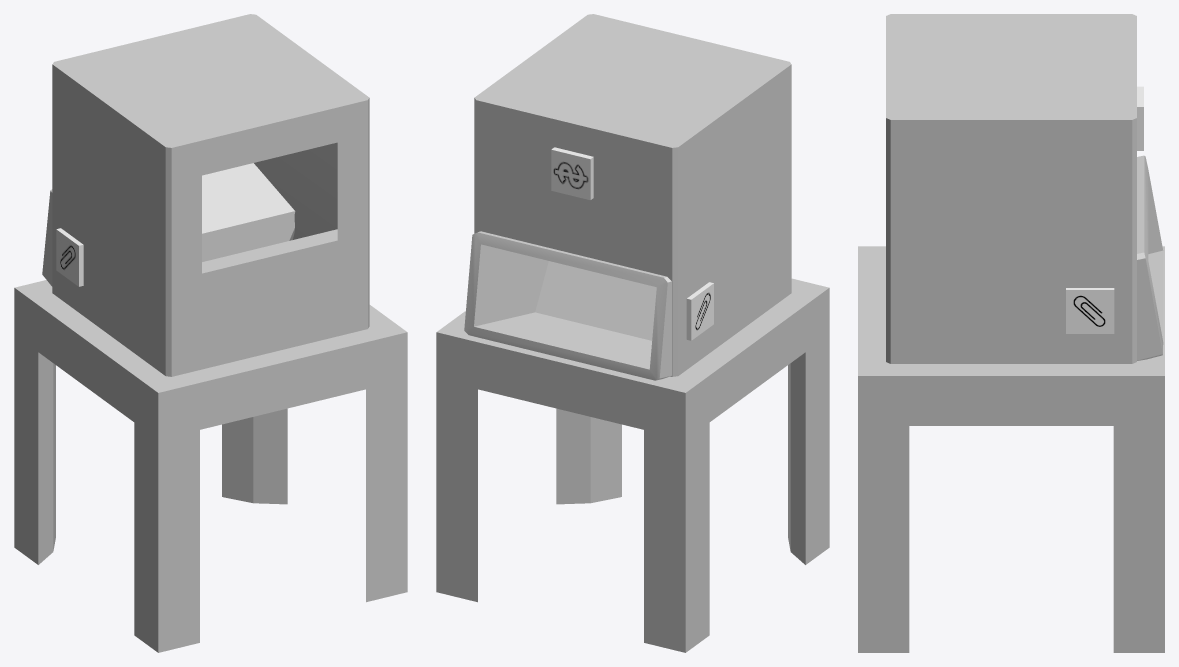
The model's file is ClipSeller.fbx.
3 views of the same model, side by side, from view 1: azimuth 30°, elevation 25°; view 2: azimuth 150°, elevation 25°; view 3: azimuth 270°, elevation 25° (orthographic). The views are drawn at different scales.
Parts seen in each view (by area): view 1: Cube, Cube.003, Plane; view 2: Cube, Cube.003, Plane.001, Plane; view 3: Cube, Cube.003, Plane.006, Plane.001.
Boxes of the visible parts, box(x1,y1,x2,y2) form: Cube: box(14, 14, 407, 652); Cube.003: box(42, 163, 295, 286); Plane: box(56, 228, 83, 286); Cube: box(436, 14, 829, 652); Cube.003: box(464, 231, 671, 380); Plane.001: box(551, 147, 593, 200); Plane: box(686, 282, 713, 340); Cube: box(858, 14, 1164, 652); Cube.003: box(1137, 155, 1163, 360); Plane.006: box(1066, 288, 1114, 333); Plane.001: box(1137, 86, 1143, 150).
Bounding box in the file's own units: 200 × 375 × 200.
